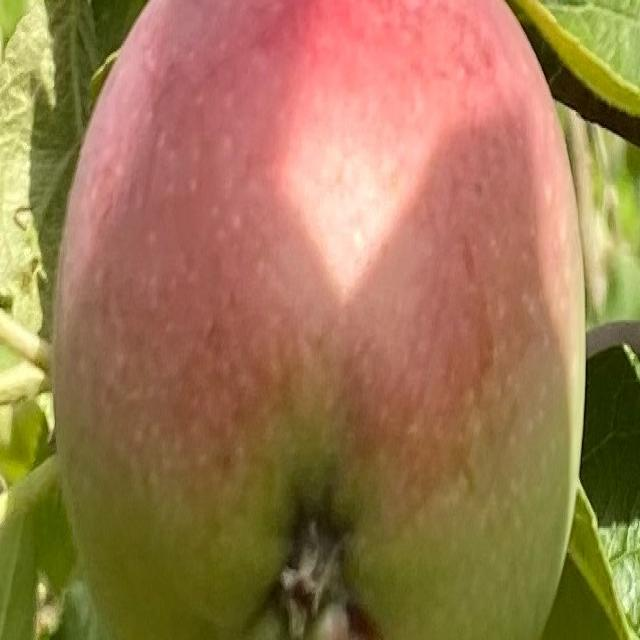100-_ripeness: (54, 5, 586, 640)
